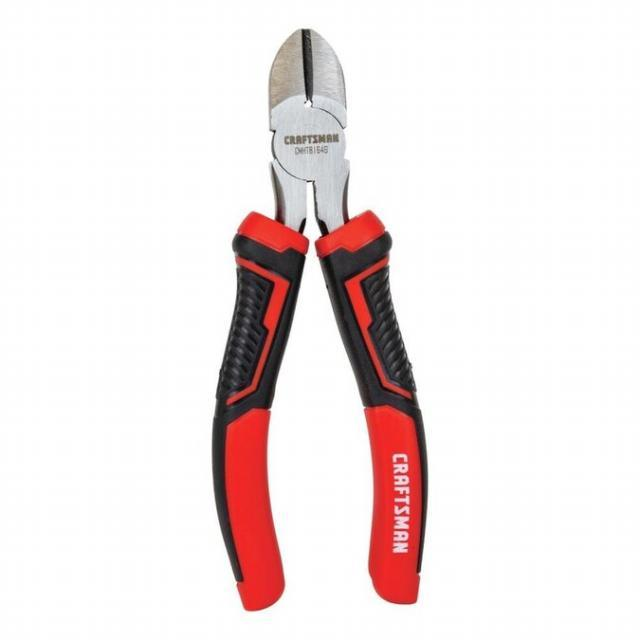pliers: (200, 19, 438, 615)
